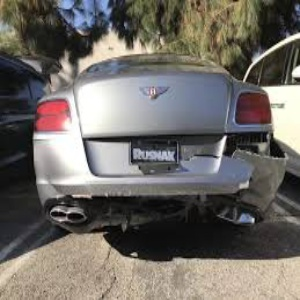bumper: (192, 143, 289, 223)
